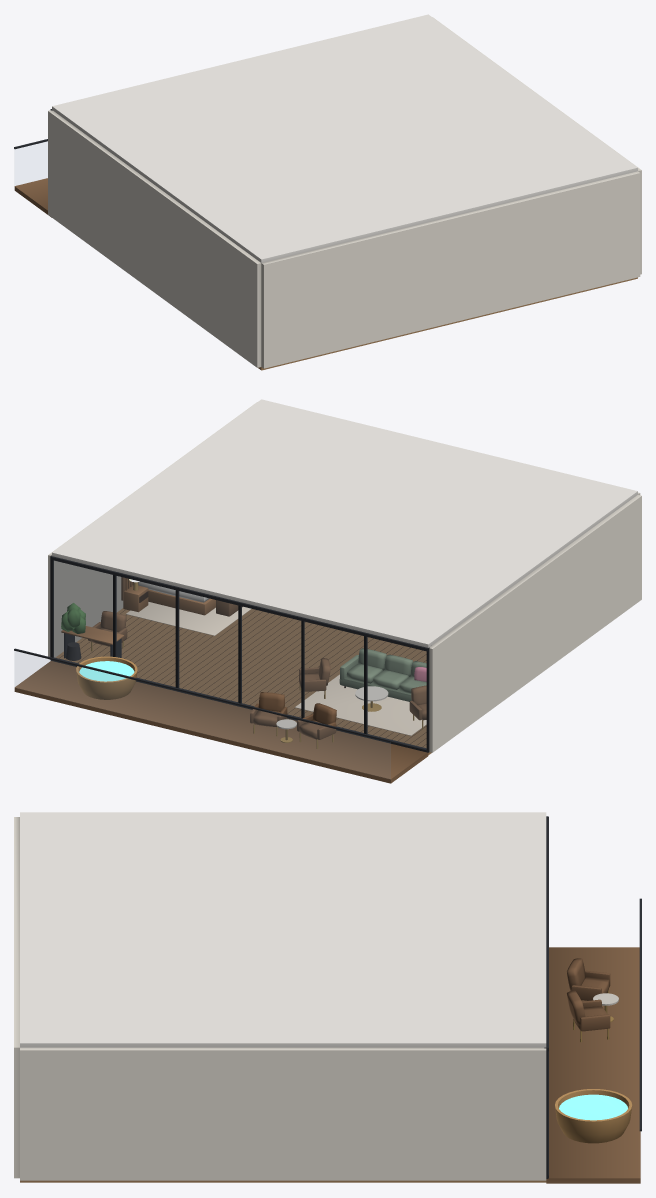
Rendered from kw-sky.glb.
3 views of the same model, one above another, from view 1: azimuth 30°, elevation 25°; view 2: azimuth 150°, elevation 25°; view 3: azimuth 270°, elevation 25° (orthographic). The views are drawn at different scales.
Parts seen in each view (by area): view 1: Room_ceiling, Room_wall, Room_glass, Room_floor, Room_deck; view 2: Room_ceiling, Room_glass, Room_wall, Room_floor, Room_deck, Room_frameDark, Room_rug, Room_fabric2, Room_woodDark, Room_fabric, Room_wood, Room_hinoki (+3 smaller); view 3: Room_ceiling, Room_wall, Room_deck, Room_fabric2, Room_hinoki, Room_frameDark, Room_floor, Room_water.
Boxes of the visible parts, x1,y1,x2,y2 form: Room_ceiling: (52, 14, 637, 262); Room_wall: (48, 17, 641, 368); Room_glass: (15, 142, 47, 185); Room_floor: (258, 277, 637, 370); Room_deck: (14, 178, 51, 217); Room_ceiling: (52, 399, 637, 647); Room_glass: (15, 561, 425, 778); Room_wall: (48, 402, 641, 752); Room_floor: (55, 608, 431, 755); Room_deck: (14, 661, 428, 783); Room_frameDark: (14, 555, 429, 752); Room_rug: (126, 602, 426, 735); Room_fabric2: (88, 600, 426, 739); Room_woodDark: (59, 591, 426, 746); Room_fabric: (339, 648, 426, 701); Room_wood: (61, 578, 215, 644); Room_hinoki: (76, 656, 137, 699); Room_ceiling: (20, 812, 546, 1047); Room_wall: (14, 817, 546, 1180); Room_deck: (546, 947, 640, 1183); Room_fabric2: (567, 958, 610, 1031); Room_hinoki: (555, 1089, 632, 1143); Room_frameDark: (544, 816, 641, 1178); Room_floor: (20, 1180, 546, 1182); Room_water: (559, 1094, 627, 1120).
Bounding box in the file's own units: 11.24 × 3.12 × 12.64.
